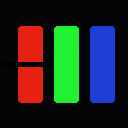3 line_h: (1, 62, 51, 66)
